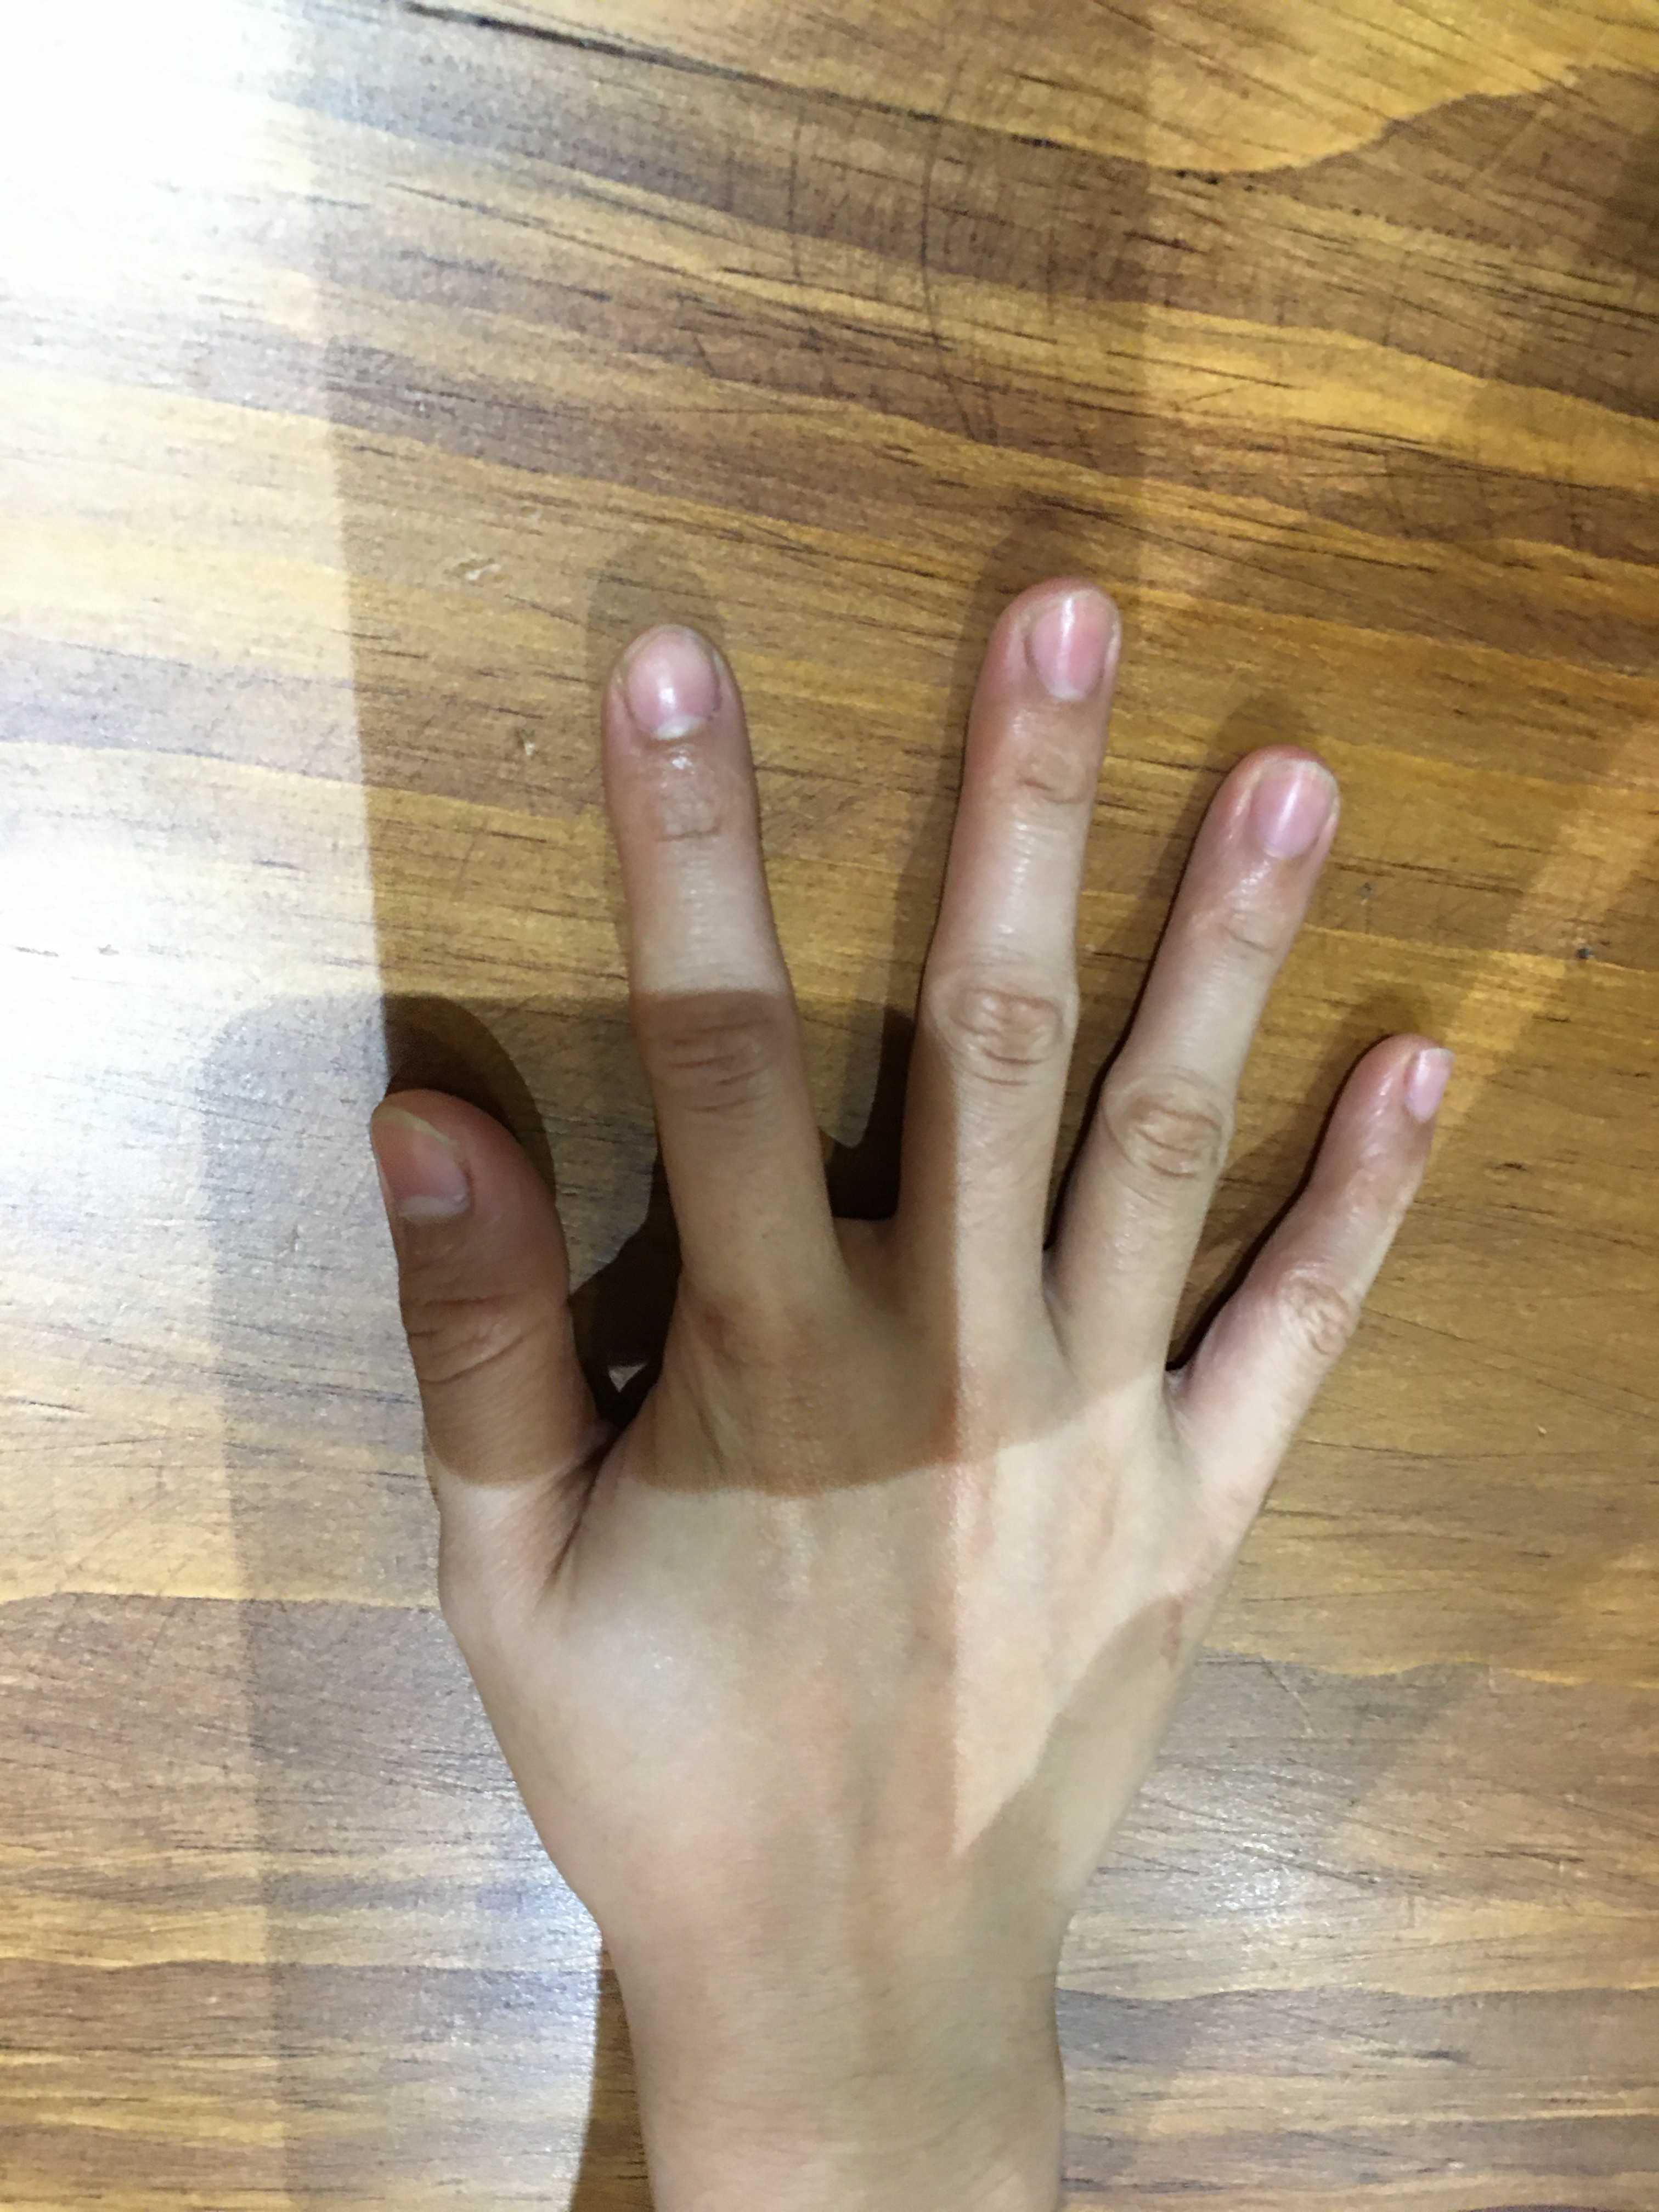nails: (598, 613, 755, 766), (349, 1082, 497, 1238), (995, 568, 1136, 721), (1241, 742, 1345, 892), (1396, 1024, 1460, 1155)
